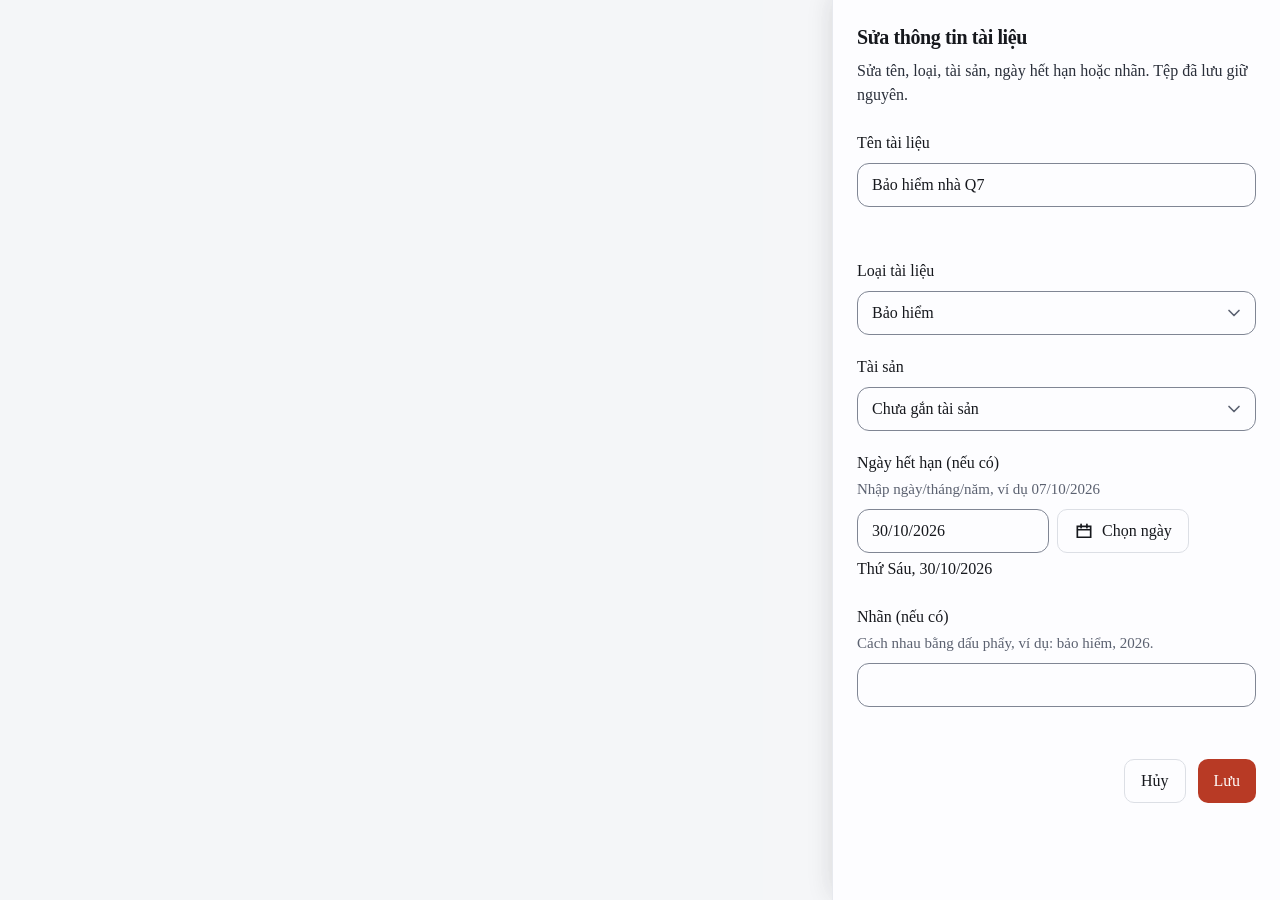
Sửa thông tin › refuses the unreadable date 31/02/2027 under the field and sends nothing
The image size is (1280, 900).
Replace the text in the field labelled "Ngày hết hạn (nếu có)" with "31/02/2027". click: x=953, y=531
box: [857,509,1049,553]
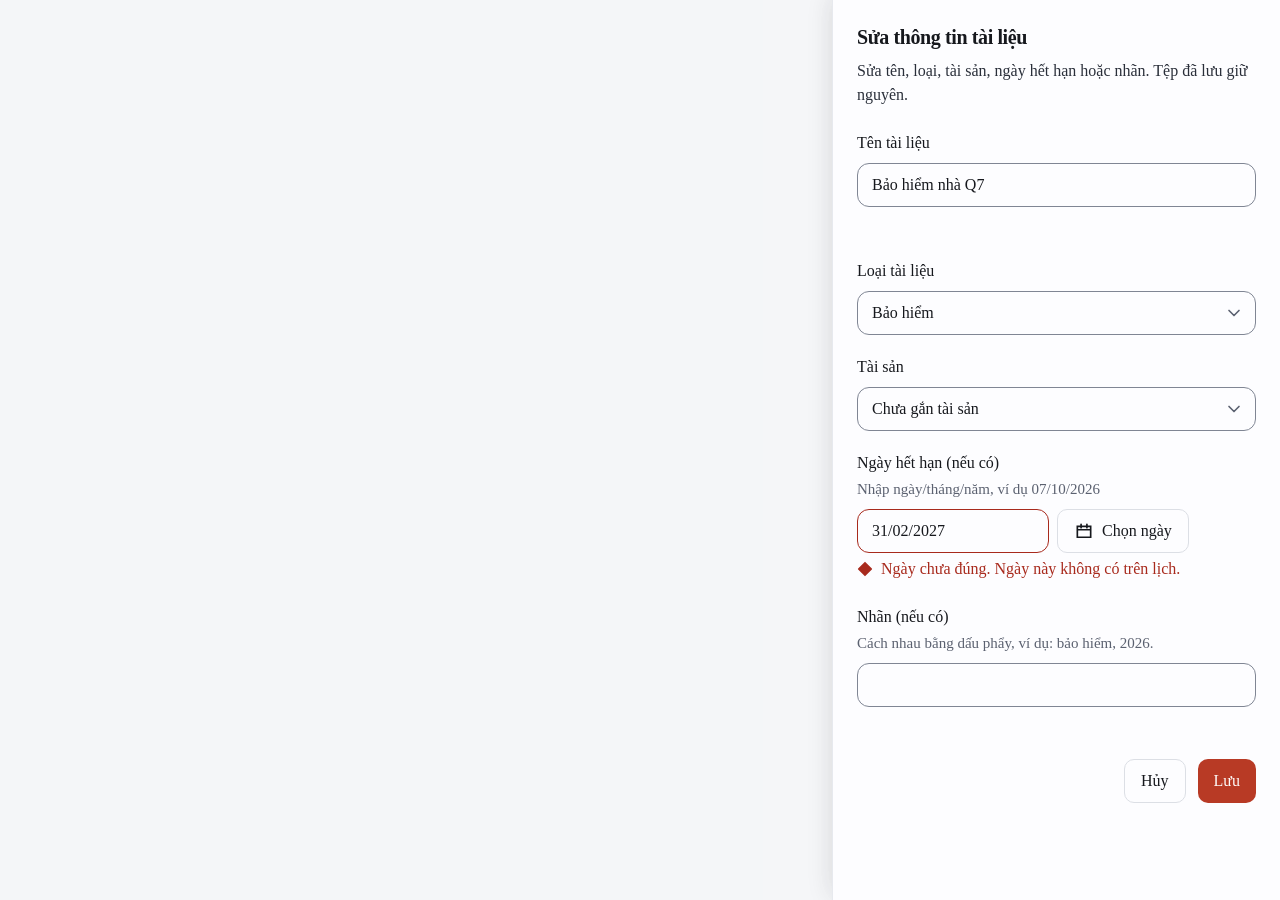
Click the button with test id "save-edit". click: x=1227, y=780
box: [1198,758,1256,802]
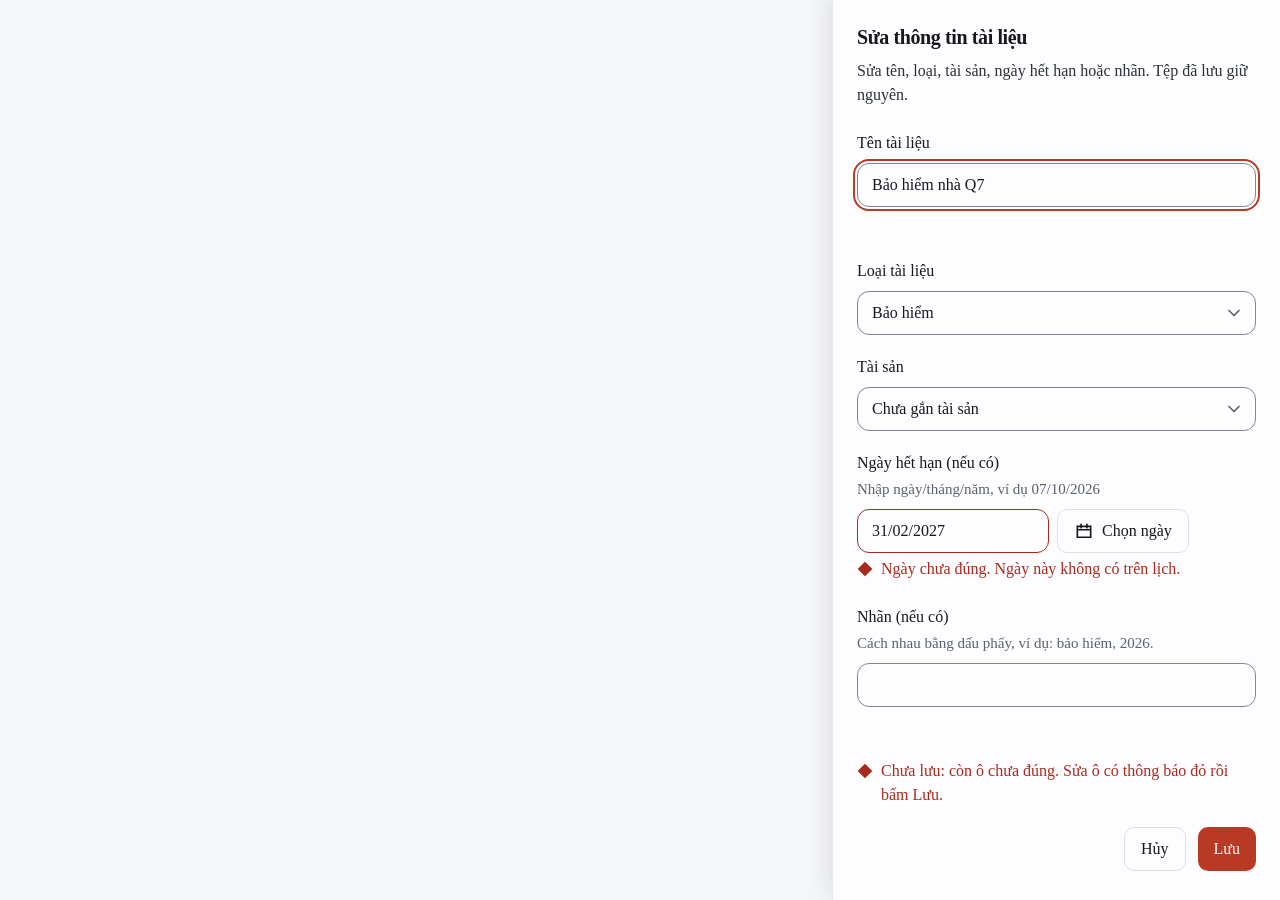
Expected: the text "Ngày chưa đúng. Ngày này không có trên lịch." is shown, [881,557,1180,581]
Expected: the message with test id "edit-invalid" shows "Chưa lưu", [881,762,1228,802]
